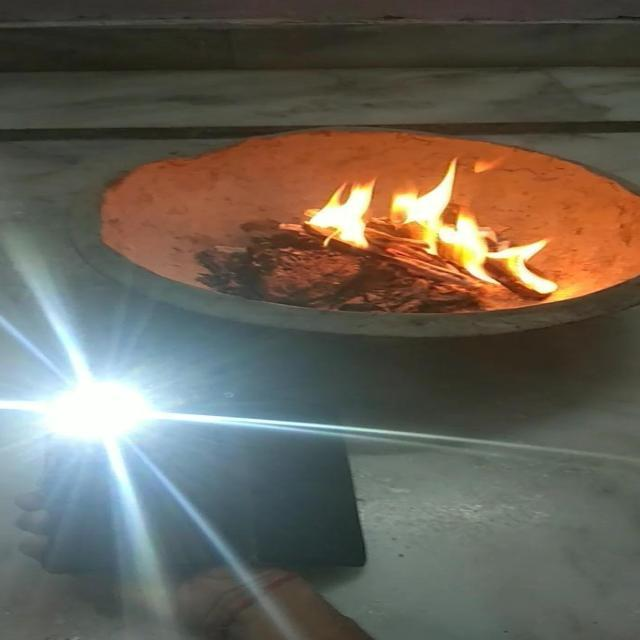smoke: (388, 154, 558, 297), (314, 177, 379, 253)
